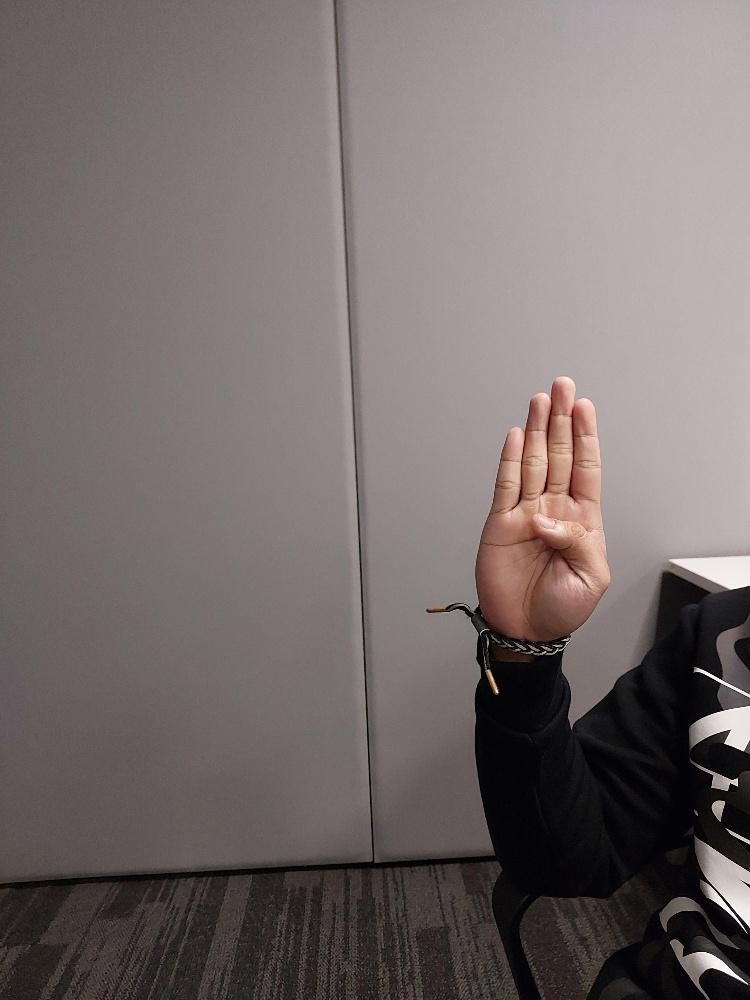b: (472, 373, 612, 646)
